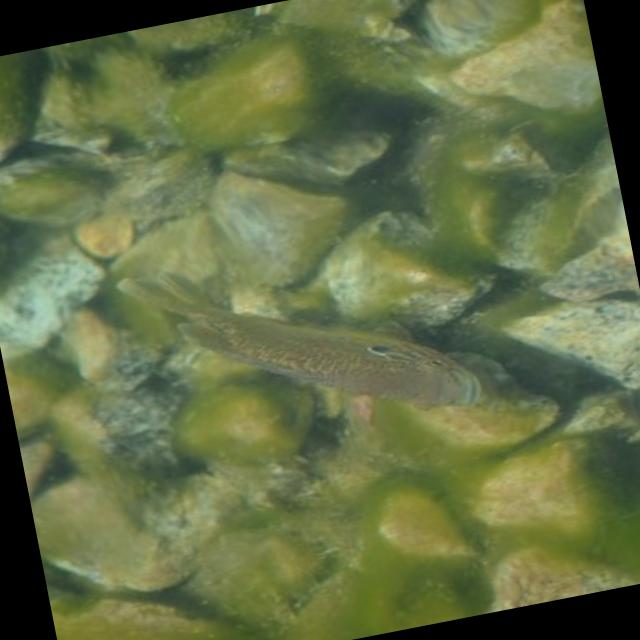Gunes Levregi: (108, 210, 496, 469)
